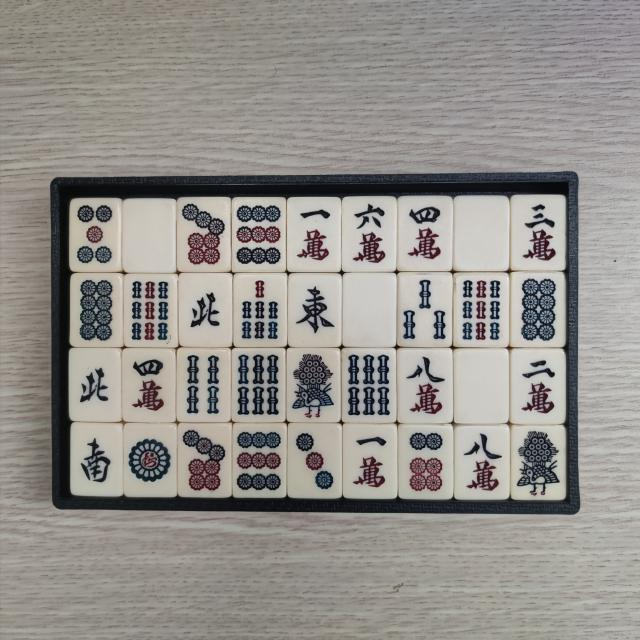hdw: (462, 200, 506, 264), (462, 352, 506, 416), (347, 280, 392, 342), (128, 203, 172, 266)
hwe: (293, 279, 338, 342)
hwn: (185, 277, 229, 340), (75, 356, 117, 416)
hws: (76, 429, 120, 492)
sb1: (515, 429, 563, 498), (291, 352, 338, 419)
sb3: (403, 279, 450, 346)
sb4: (182, 352, 226, 417)
sb6: (344, 349, 392, 416), (237, 350, 284, 414)
sb7: (239, 278, 284, 342)
sb9: (128, 278, 172, 344), (460, 278, 504, 344)
sc1: (293, 202, 337, 266), (348, 430, 390, 494)
sc2: (518, 352, 562, 417)
sc3: (516, 200, 559, 266)
sc4: (403, 200, 447, 266), (128, 354, 170, 417)
sc6: (349, 200, 392, 266)
sc8: (461, 432, 506, 498), (403, 353, 448, 418)
sd1: (127, 429, 173, 493)
sd3: (292, 428, 338, 494)
sd5: (72, 202, 116, 266)
sd6: (406, 430, 448, 496)
sd7: (180, 428, 228, 495), (180, 200, 227, 266)
sd8: (76, 276, 120, 344), (516, 276, 560, 343)
sd9: (233, 202, 281, 268), (234, 426, 281, 492)
